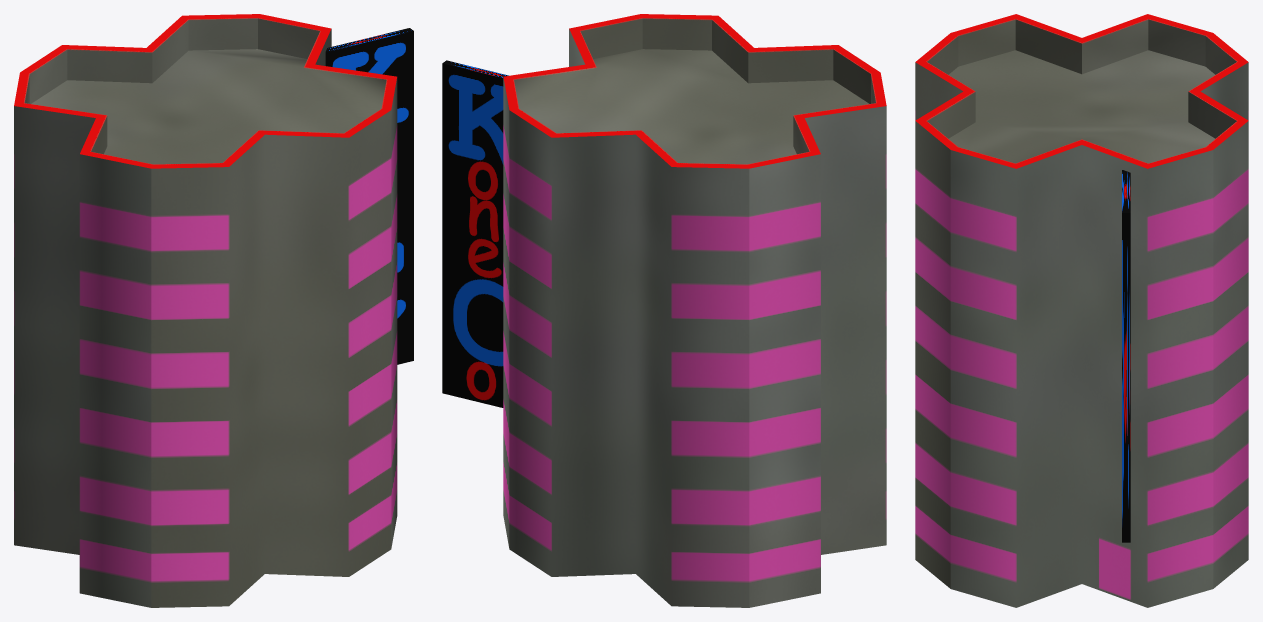
File: KoneCo Building LP.FBX
3 views of the same model, side by side, from view 1: azimuth 30°, elevation 25°; view 2: azimuth 150°, elevation 25°; view 3: azimuth 270°, elevation 25° (orthographic).
Parts seen in each view (by area): view 1: KoneCo Building LP, SimpleKoneCoLogo; view 2: KoneCo Building LP, SimpleKoneCoLogo; view 3: KoneCo Building LP, SimpleKoneCoLogo.
Part boxes in pixels (x1,y1,x2,y2): KoneCo Building LP: [14, 14, 397, 607]; SimpleKoneCoLogo: [325, 28, 413, 364]; KoneCo Building LP: [503, 14, 886, 607]; SimpleKoneCoLogo: [442, 60, 508, 407]; KoneCo Building LP: [915, 14, 1248, 607]; SimpleKoneCoLogo: [1122, 170, 1130, 542].
Size of the model in its own units: 147 by 160 by 110.
Materials: 2 (2 with a texture image).
